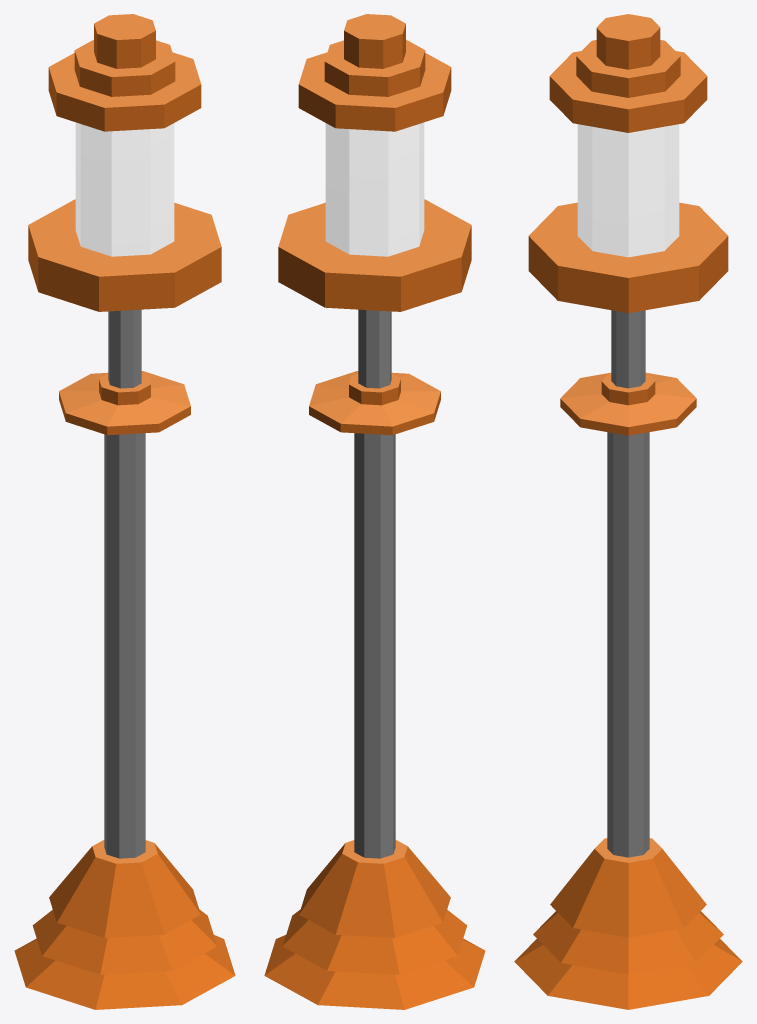
Rendered from LampPostSciFi_01.glb.
3 views of the same model, side by side, from view 1: azimuth 30°, elevation 25°; view 2: azimuth 150°, elevation 25°; view 3: azimuth 270°, elevation 25° (orthographic).
Parts seen in each view (by area): view 1: LampPostSciFi_01; view 2: LampPostSciFi_01; view 3: LampPostSciFi_01.
Part boxes in pixels (x1,y1,x2,y2): LampPostSciFi_01: [14, 14, 235, 1009]; LampPostSciFi_01: [264, 14, 485, 1009]; LampPostSciFi_01: [514, 14, 742, 1009].
Size of what is drawn, in the model's own units: 0.4918 by 2.22 by 0.4918.
2 materials, 2 textured.
